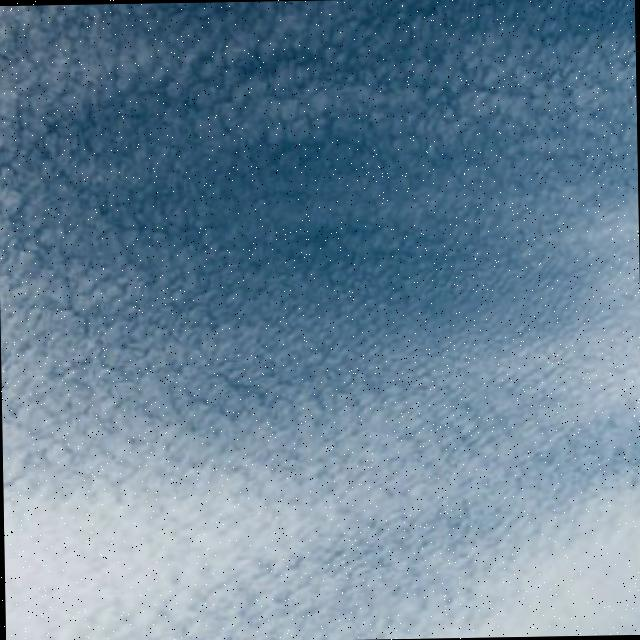Cc: (1, 21, 615, 578)
